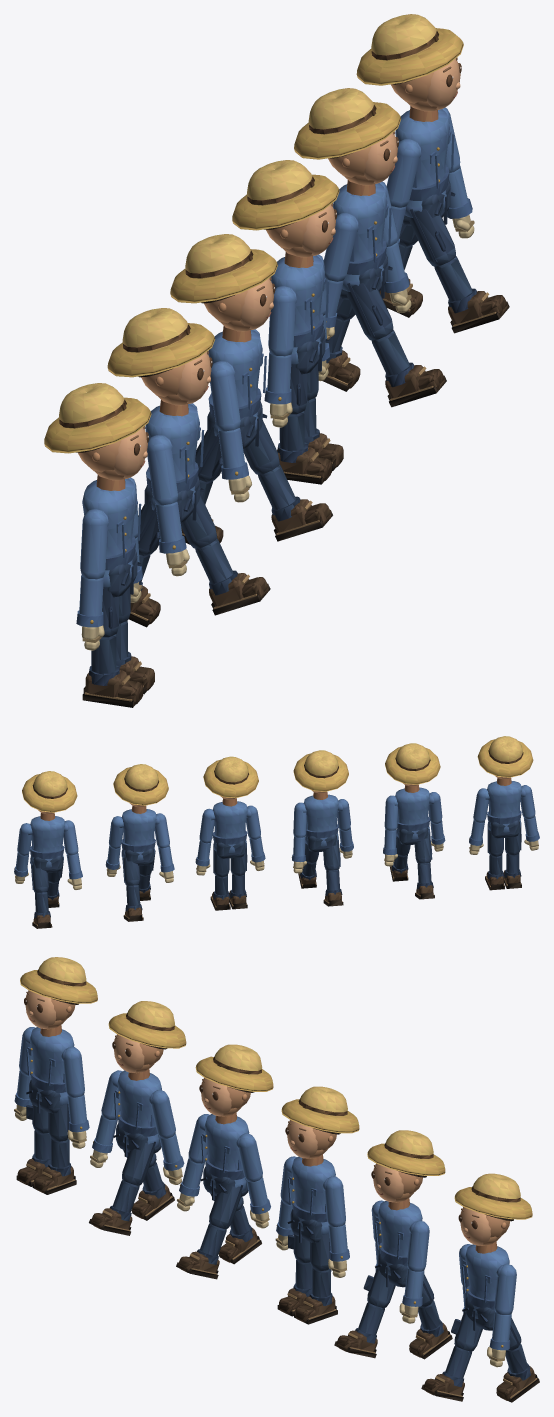
File: ba-walk-front-after.glb
3 views of the same model, one above another, from view 1: azimuth 30°, elevation 25°; view 2: azimuth 150°, elevation 25°; view 3: azimuth 270°, elevation 25° (orthographic). The views are drawn at different scales.
Visible parts, largest first — view 1: strawHat (×6), denimJacketTorso (×6), head (×6), rightShin (×5), rightUpperArm (×6), leftShin (×5), rightThigh (×4), rightLowerArm (×4), leftThigh (×2), leftLowerArm (×2), trouserHips (×2); view 2: strawHat (×6), denimJacketTorso (×6), leftShin (×6), rightShin (×6), leftUpperArm (×6), rightUpperArm (×6), trouserHips (×6), leftLowerArm (×6), rightLowerArm (×6), leftThigh (×4), rightThigh (×4); view 3: strawHat (×6), denimJacketTorso (×6), leftShin (×6), head (×6), rightShin (×6), leftUpperArm (×6), leftLowerArm (×6), trouserHips (×6), leftThigh (×4), rightThigh (×2), rightLowerArm (×2), rightUpperArm (×2).
Part boxes in pixels (bbox=[...]): strawHat (×6): bbox=[44, 14, 463, 453]; denimJacketTorso (×6): bbox=[82, 106, 454, 587]; head (×6): bbox=[76, 57, 461, 480]; rightShin (×5): bbox=[82, 256, 509, 707]; rightUpperArm (×6): bbox=[80, 138, 421, 579]; leftShin (×5): bbox=[116, 318, 360, 694]; rightThigh (×4): bbox=[138, 209, 455, 556]; rightLowerArm (×4): bbox=[76, 352, 291, 627]; leftThigh (×2): bbox=[180, 420, 279, 548]; leftLowerArm (×2): bbox=[384, 166, 472, 292]; trouserHips (×2): bbox=[107, 326, 329, 597]; strawHat (×6): bbox=[22, 736, 533, 812]; denimJacketTorso (×6): bbox=[30, 777, 521, 867]; leftShin (×6): bbox=[32, 854, 504, 928]; rightShin (×6): bbox=[47, 853, 521, 909]; leftUpperArm (×6): bbox=[17, 788, 489, 855]; rightUpperArm (×6): bbox=[63, 785, 535, 855]; trouserHips (×6): bbox=[33, 820, 519, 872]; leftLowerArm (×6): bbox=[14, 820, 484, 876]; rightLowerArm (×6): bbox=[66, 816, 539, 879]; leftThigh (×4): bbox=[30, 825, 503, 892]; rightThigh (×4): bbox=[230, 822, 521, 875]; strawHat (×6): bbox=[20, 957, 532, 1219]; denimJacketTorso (×6): bbox=[26, 1025, 509, 1318]; leftShin (×6): bbox=[32, 1138, 539, 1402]; head (×6): bbox=[24, 990, 513, 1245]; rightShin (×6): bbox=[16, 1130, 472, 1401]; leftUpperArm (×6): bbox=[61, 1047, 516, 1314]; leftLowerArm (×6): bbox=[67, 1095, 511, 1350]; trouserHips (×6): bbox=[26, 1080, 494, 1330]; leftThigh (×4): bbox=[48, 1104, 330, 1270]; rightThigh (×2): bbox=[363, 1267, 482, 1351]; rightLowerArm (×2): bbox=[92, 1115, 204, 1196]; rightUpperArm (×2): bbox=[101, 1070, 209, 1163].
Size of what is drawn, in the model's own units: 6.09 by 2.42 by 5.27.
